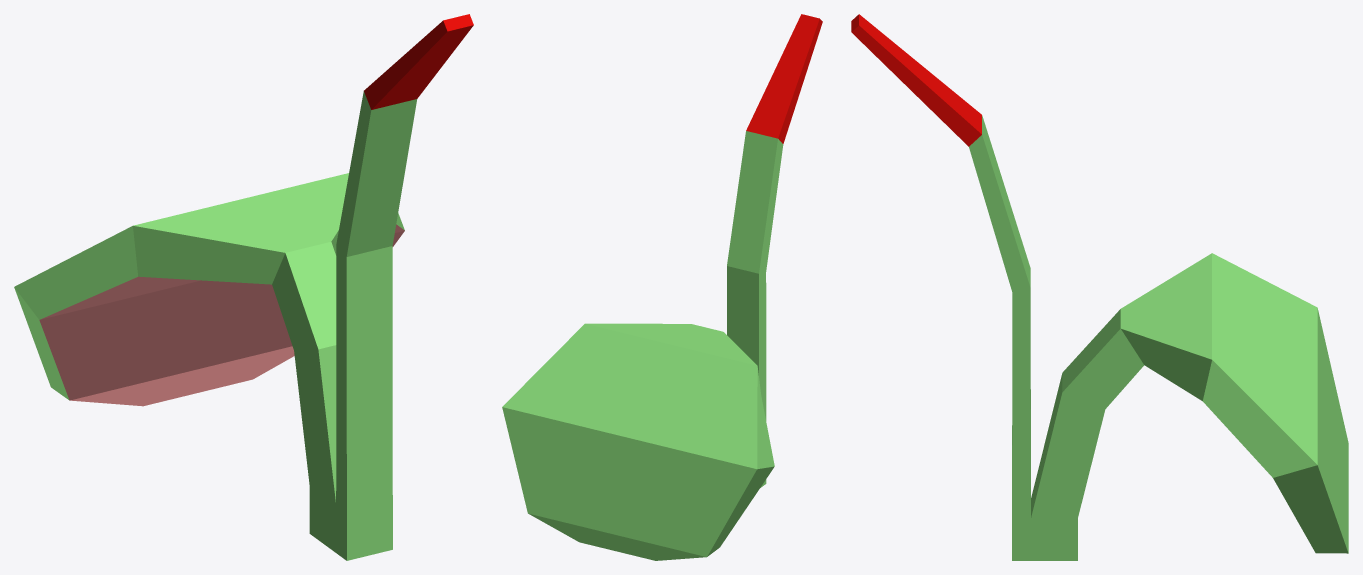
Rendered from banna_plant.glb.
The picture shows the model from 3 angles, left to right: view 1: azimuth 30°, elevation 25°; view 2: azimuth 150°, elevation 25°; view 3: azimuth 270°, elevation 25°; orthographic projection. The views are drawn at different scales.
Parts seen in each view (by area): view 1: Cube; view 2: Cube; view 3: Cube.
Part boxes in pixels (<box>): Cube: <box>14,14,473,560</box>; Cube: <box>502,14,822,560</box>; Cube: <box>851,14,1348,560</box>.
Size of the model in its own units: 1.7 by 2.67 by 2.26.
